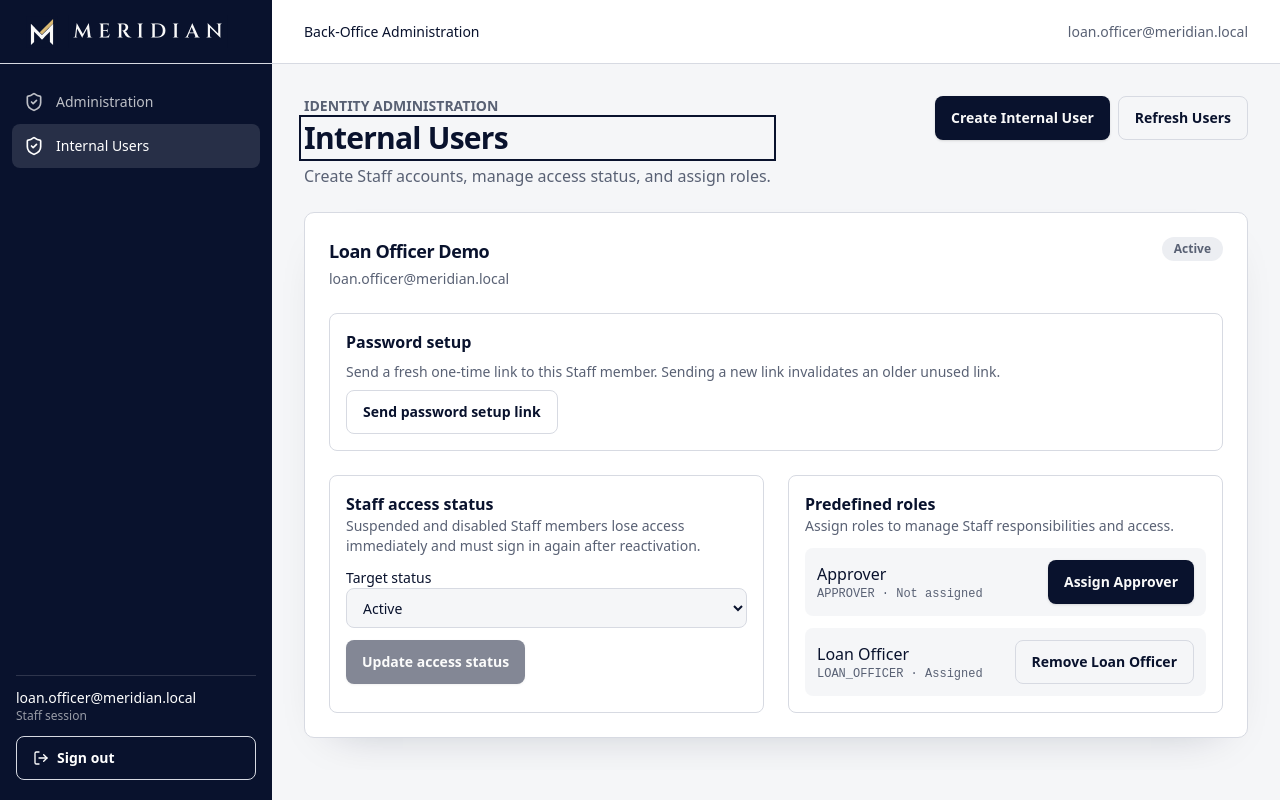
Test: Internal User administration page › does not retry an unknown status result and preserves the last confirmed state while refreshing
Expected: the heading "Loan Officer Demo" is shown, [329,237,509,265]
Select "Disabled" in the dropdown labelled "Target status" at (546, 608), box [346,588,747,628]
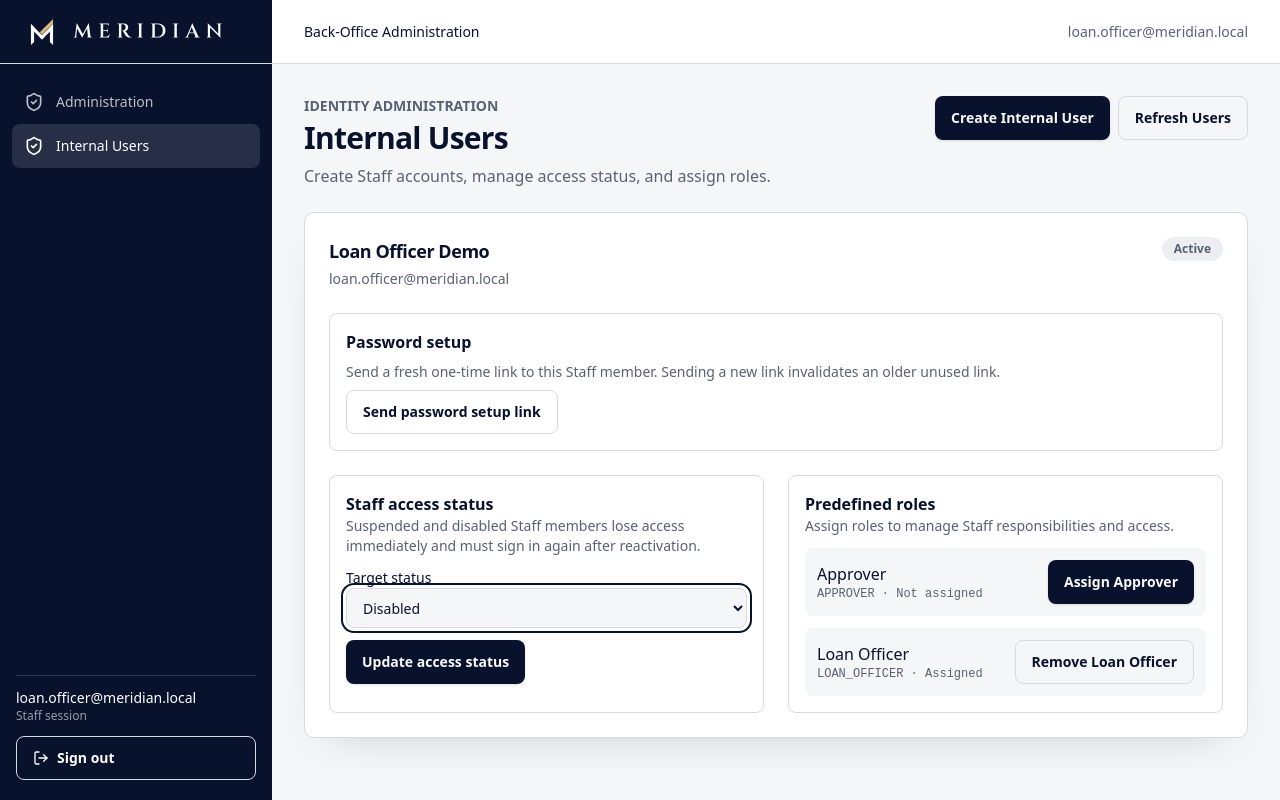
Click the button "Update access status".
click(436, 662)  # box [346,640,525,684]
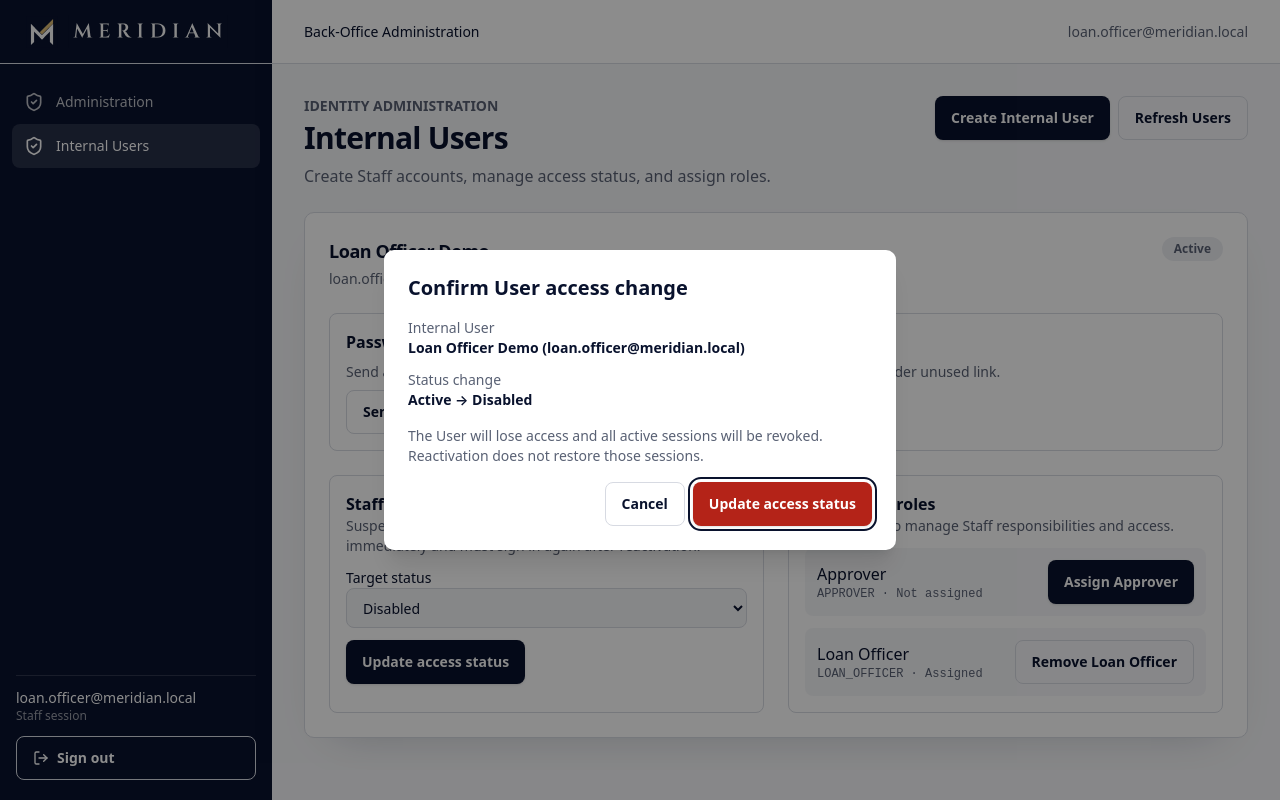
Click the button "Update access status".
click(782, 504)  # box [693,482,872,526]
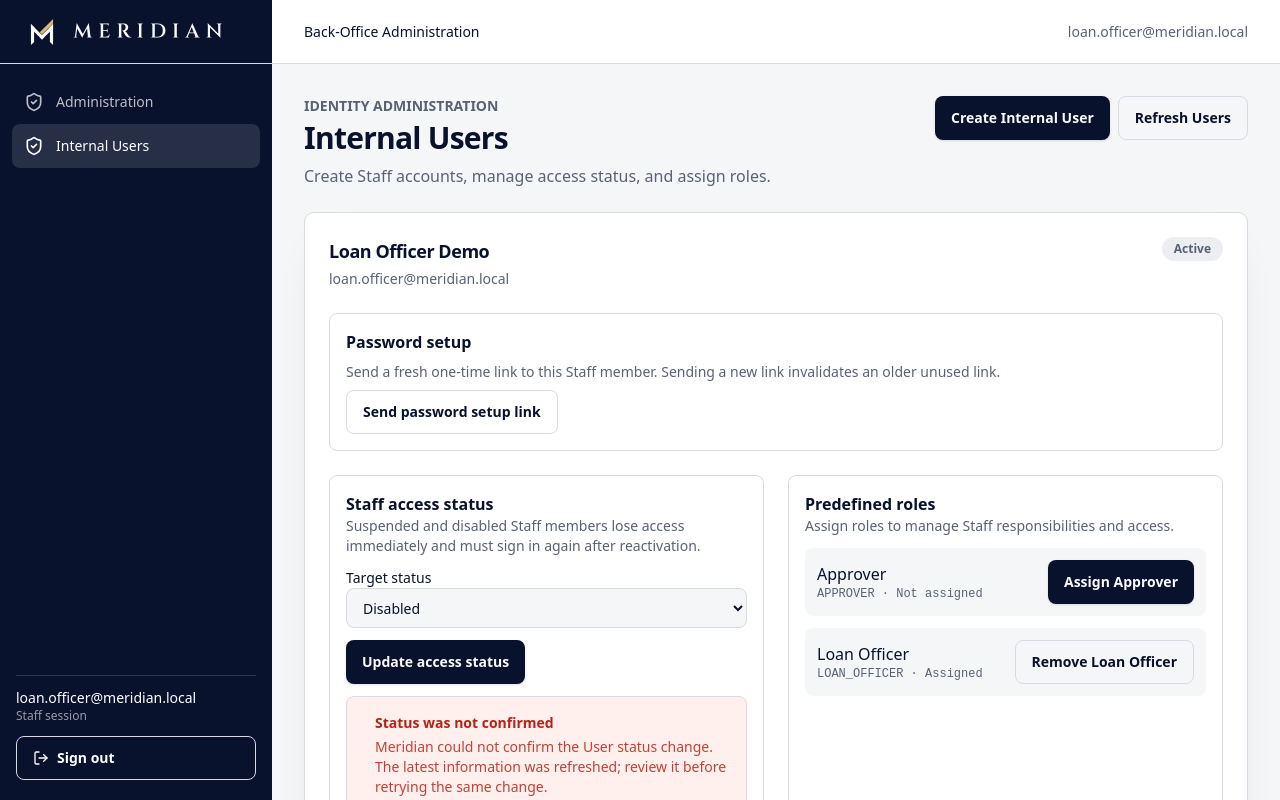
Expected: the text "Active" is shown, [1162,237,1223,261]
Expected: the heading "Status was not confirmed" is shown, [375,713,554,732]
